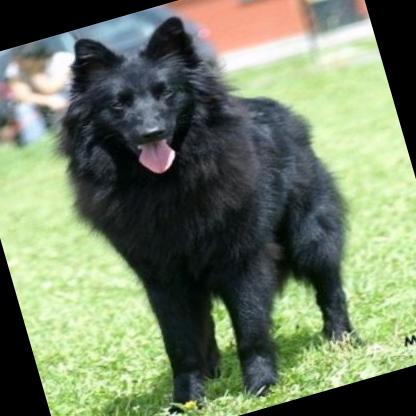groenendael: (32, 0, 388, 416)
